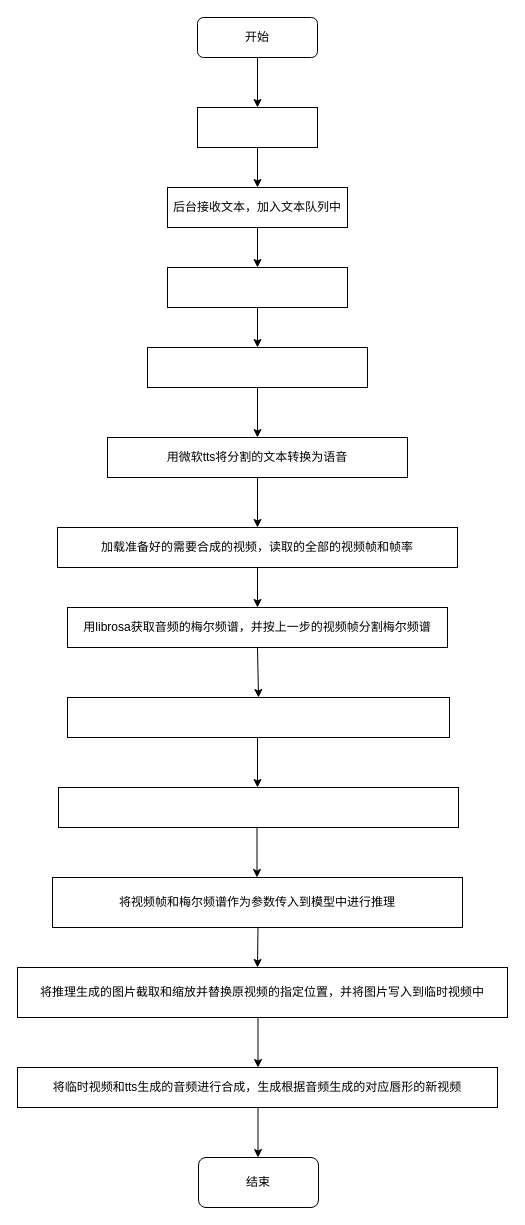
This 525x1225 diagram has some shape labels left out. The box of each missing label's shape, as (x1, y1, x2, y2) in pixels:
从队列中取出文本: (166, 266, 348, 308)
将文本按句号进行分割: (146, 346, 368, 388)
生成包含去掉下半脸和全部脸，梅尔频谱，视频帧，人脸坐标的数据集: (66, 696, 450, 738)
输入文本: (196, 106, 318, 148)
遍历数据集，取出视频帧和梅尔频谱: (58, 786, 458, 828)
